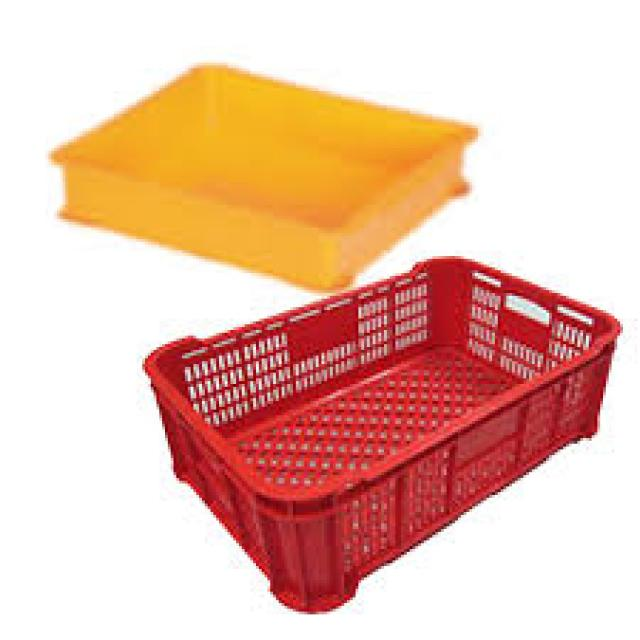basket: (35, 38, 483, 318)
